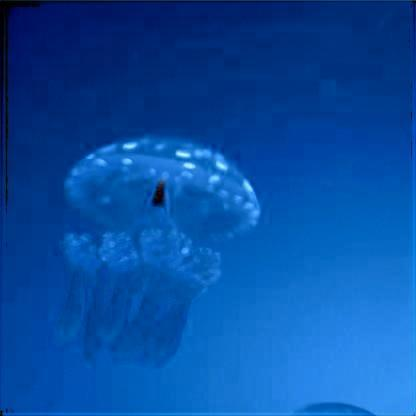LightHouse: (60, 139, 262, 361)
